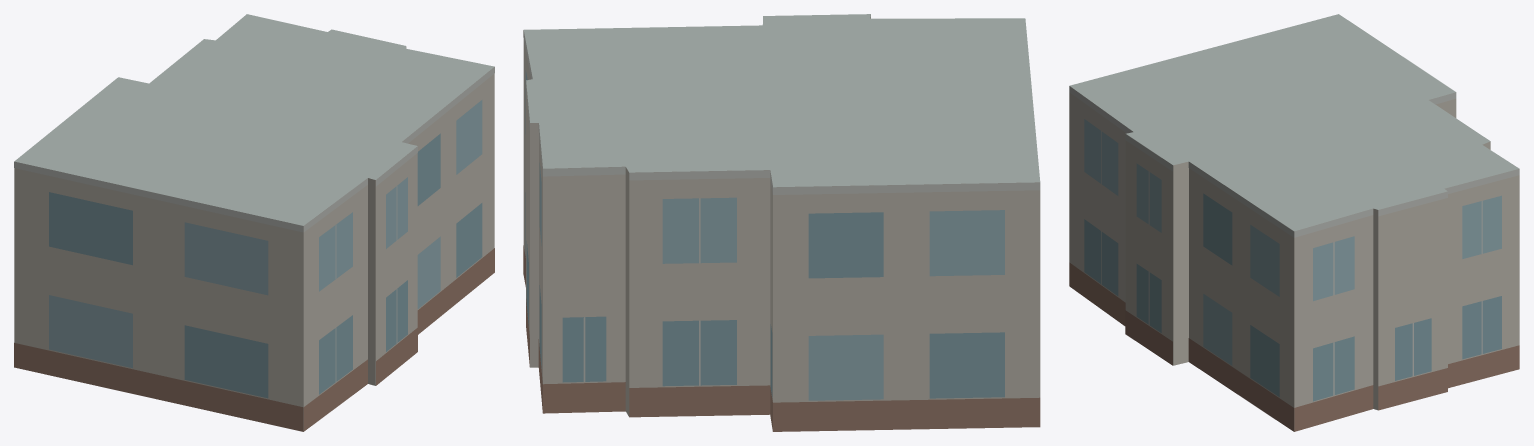
File: survey-upis-32625089.glb
3 views of the same model, side by side, from view 1: azimuth 30°, elevation 25°; view 2: azimuth 150°, elevation 25°; view 3: azimuth 270°, elevation 25° (orthographic). The views are drawn at different scales.
Parts seen in each view (by area): view 1: survey-upis-32625089.tmp; view 2: survey-upis-32625089.tmp; view 3: survey-upis-32625089.tmp.
Part boxes in pixels (x1,y1,x2,y2): survey-upis-32625089.tmp: [14, 14, 494, 431]; survey-upis-32625089.tmp: [523, 14, 1040, 431]; survey-upis-32625089.tmp: [1069, 14, 1519, 431].
Size of the model in its own units: 17.69 by 7.6 by 15.48.
